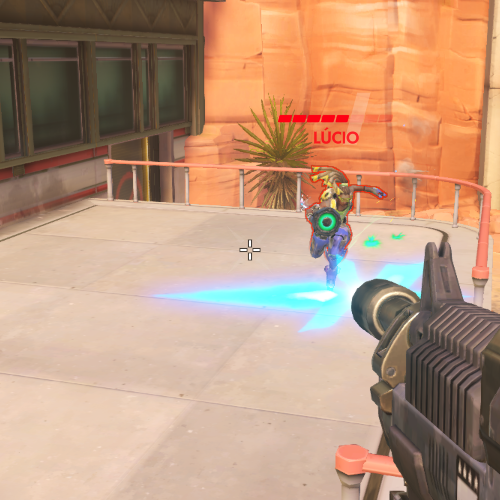hpbar: (277, 114, 393, 123)
